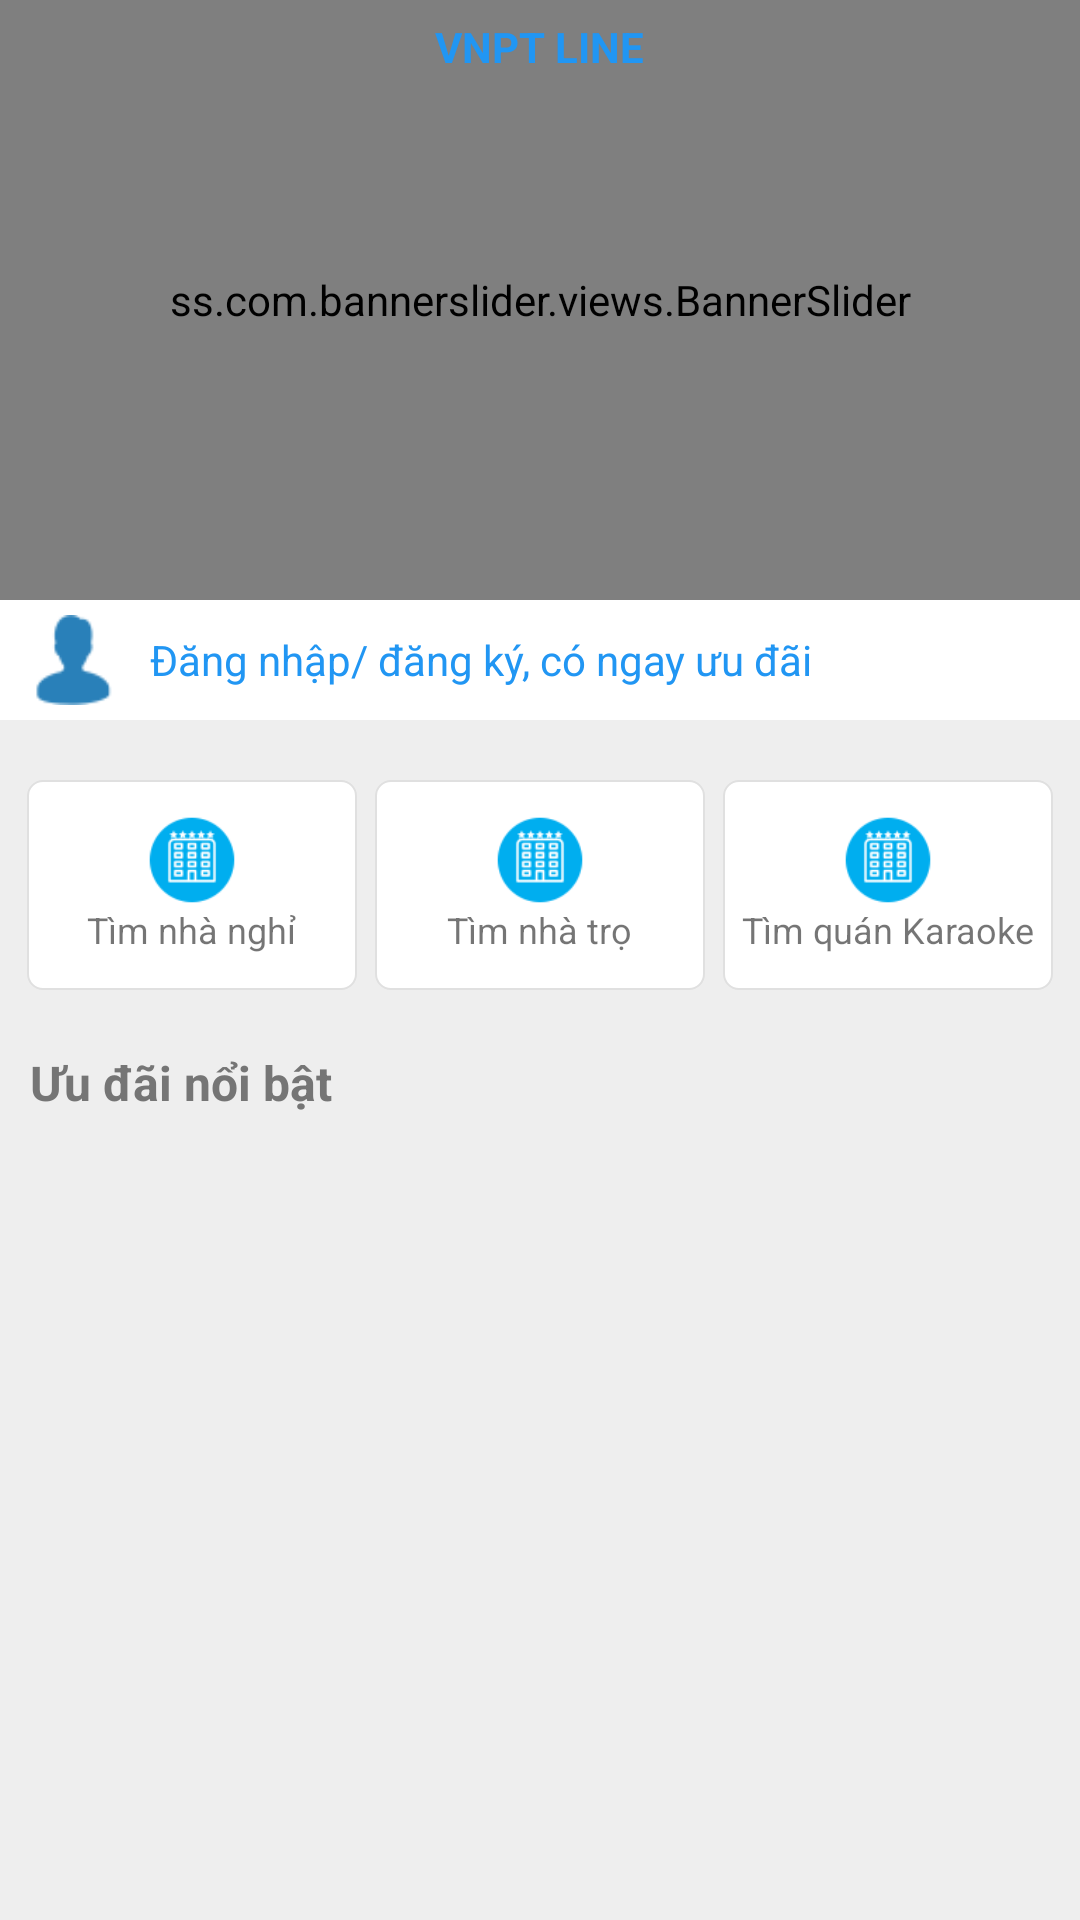

Named icons in this screenshot (1080*1920) and their bounding boxes, (x1, y1, x2, y2):
user: (36, 615, 111, 705)
